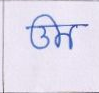i_matra: (42, 14, 64, 46)
